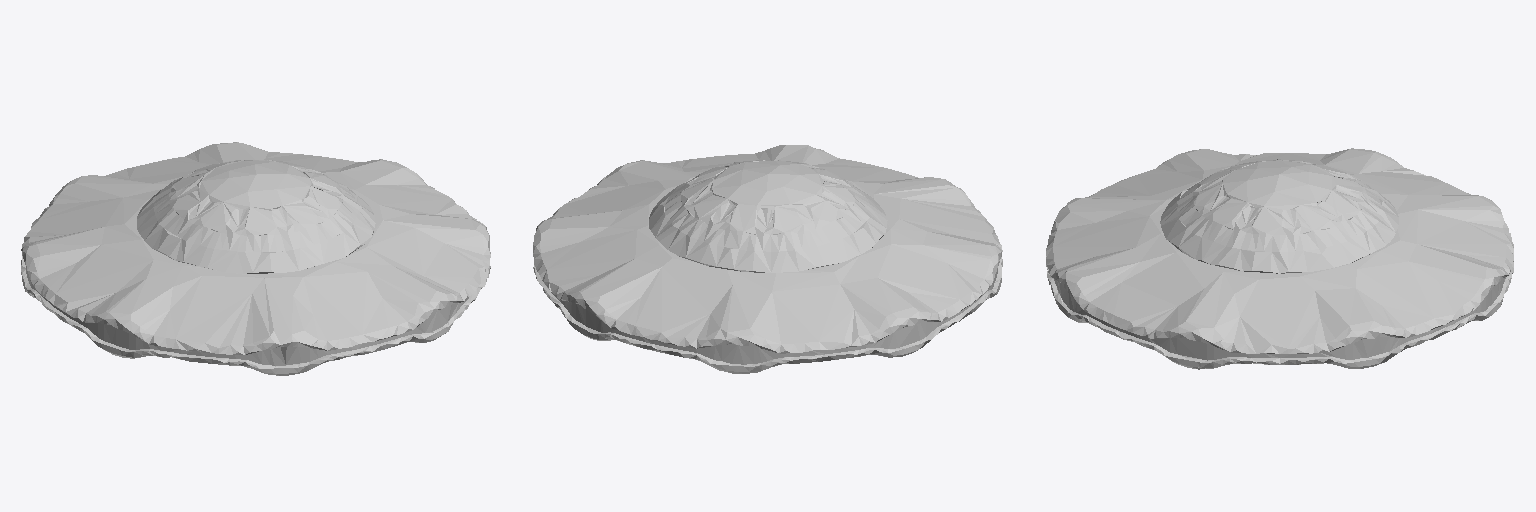
The model's file is frame_018.obj.
3 views of the same model, side by side, from view 1: azimuth 30°, elevation 25°; view 2: azimuth 150°, elevation 25°; view 3: azimuth 270°, elevation 25° (orthographic).
Visible parts, largest first — view 1: 13884_UFO_Saucer_v1_l2; view 2: 13884_UFO_Saucer_v1_l2; view 3: 13884_UFO_Saucer_v1_l2.
Boxes of the visible parts, box(x1,y1,x2,y2) form: 13884_UFO_Saucer_v1_l2: box(21, 142, 490, 375); 13884_UFO_Saucer_v1_l2: box(533, 145, 1002, 373); 13884_UFO_Saucer_v1_l2: box(1046, 148, 1513, 369).
Bounding box in the file's own units: 12.69 × 4.88 × 12.7.